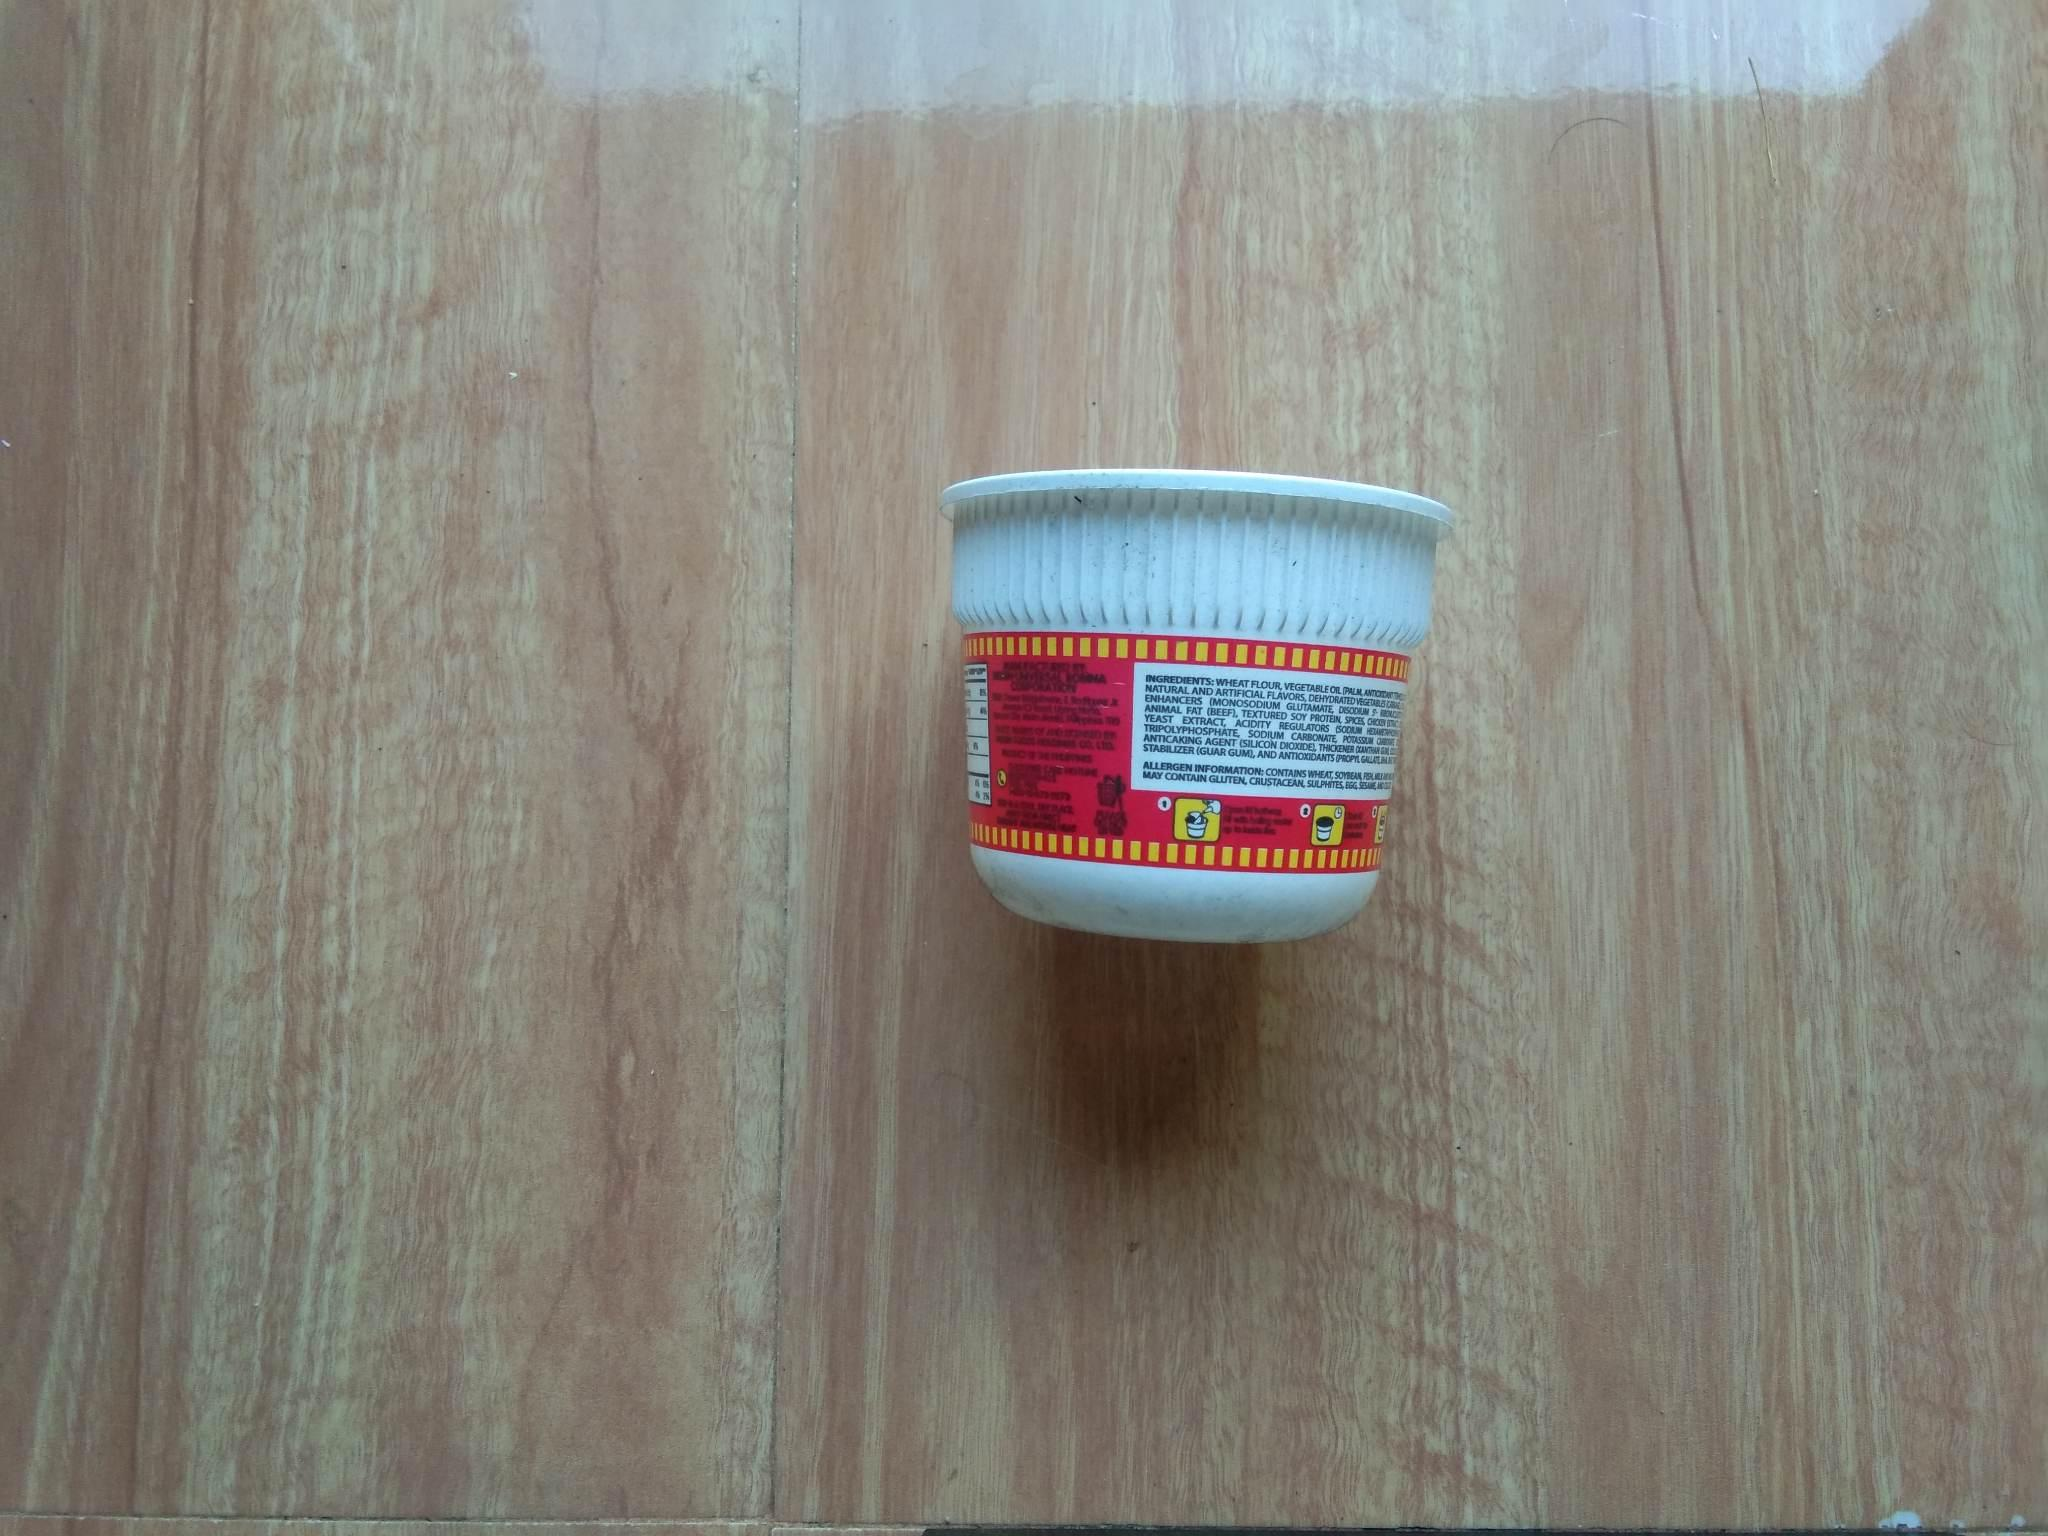plastic: (818, 428, 1451, 962)
